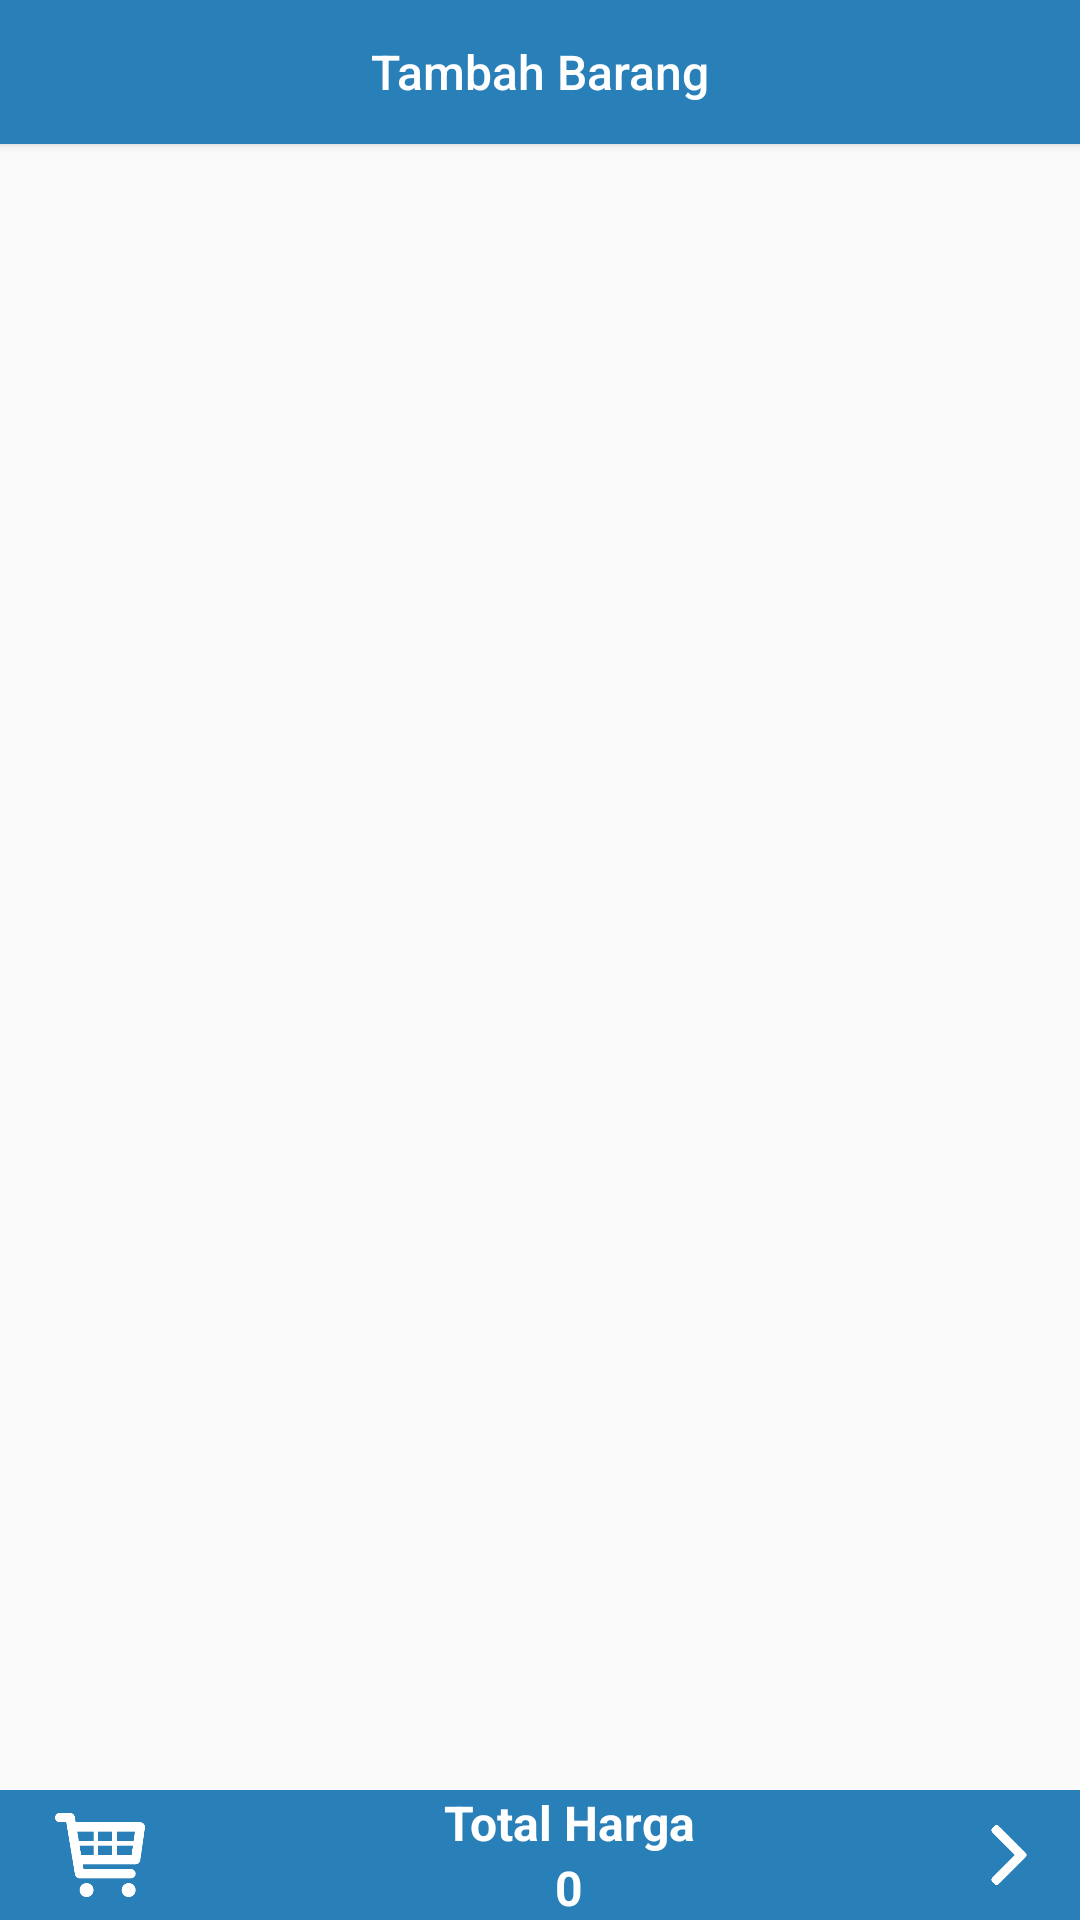

Where icons sit on this 1080px x 1920px app screen, as rect(x1, y1, x2, y2):
rightarrow: rect(991, 1825, 1027, 1885)
shoppingcart: rect(55, 1813, 145, 1897)
